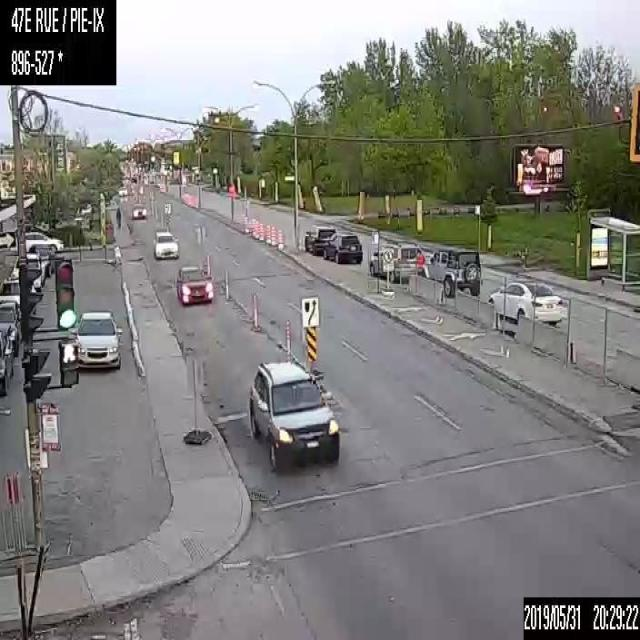construction: (251, 293, 259, 331), (285, 319, 290, 362), (223, 268, 230, 298), (276, 229, 284, 249), (269, 225, 276, 246), (252, 218, 258, 238), (258, 222, 264, 242), (264, 223, 270, 243)
pedestrian: (116, 206, 120, 228)
vehicle: (247, 359, 340, 469), (487, 279, 568, 325), (422, 243, 480, 296), (76, 308, 122, 369), (370, 238, 423, 284), (175, 264, 213, 304), (10, 254, 44, 292), (322, 232, 362, 264), (15, 228, 65, 253), (302, 223, 339, 255), (0, 301, 20, 356), (25, 243, 55, 277), (0, 327, 14, 393), (152, 230, 177, 258), (0, 276, 19, 304), (130, 204, 145, 217), (118, 188, 126, 196)
